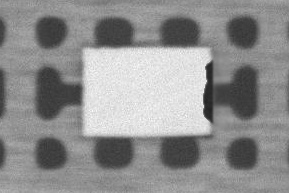DIE_BROKEN: (201, 59, 213, 123)
